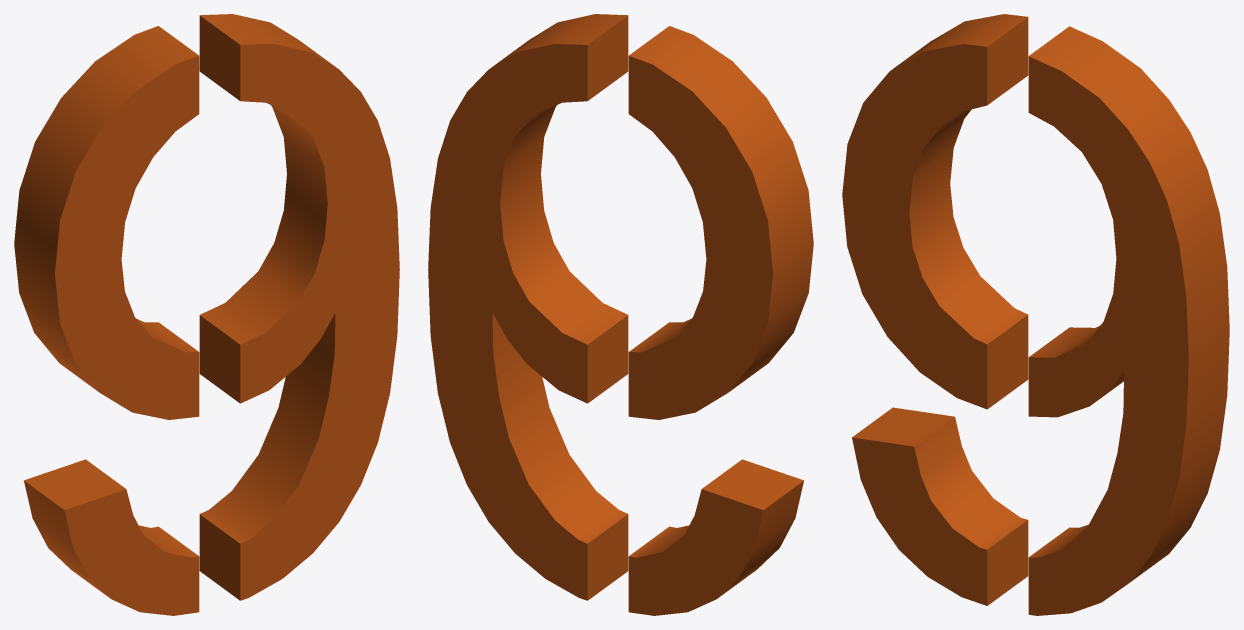
File: nine_3006_01.obj
3 views of the same model, side by side, from view 1: azimuth 30°, elevation 25°; view 2: azimuth 150°, elevation 25°; view 3: azimuth 330°, elevation 25° (orthographic).
Parts seen in each view (by area): view 1: polySurface640; view 2: polySurface640; view 3: polySurface640.
Boxes of the visible parts, left/top/right/bottom form: polySurface640: left=14, top=14, right=399, bottom=615; polySurface640: left=428, top=14, right=813, bottom=615; polySurface640: left=842, top=14, right=1229, bottom=615.
Size of the model in its own units: 0.8405 by 1.3 by 0.1719.
